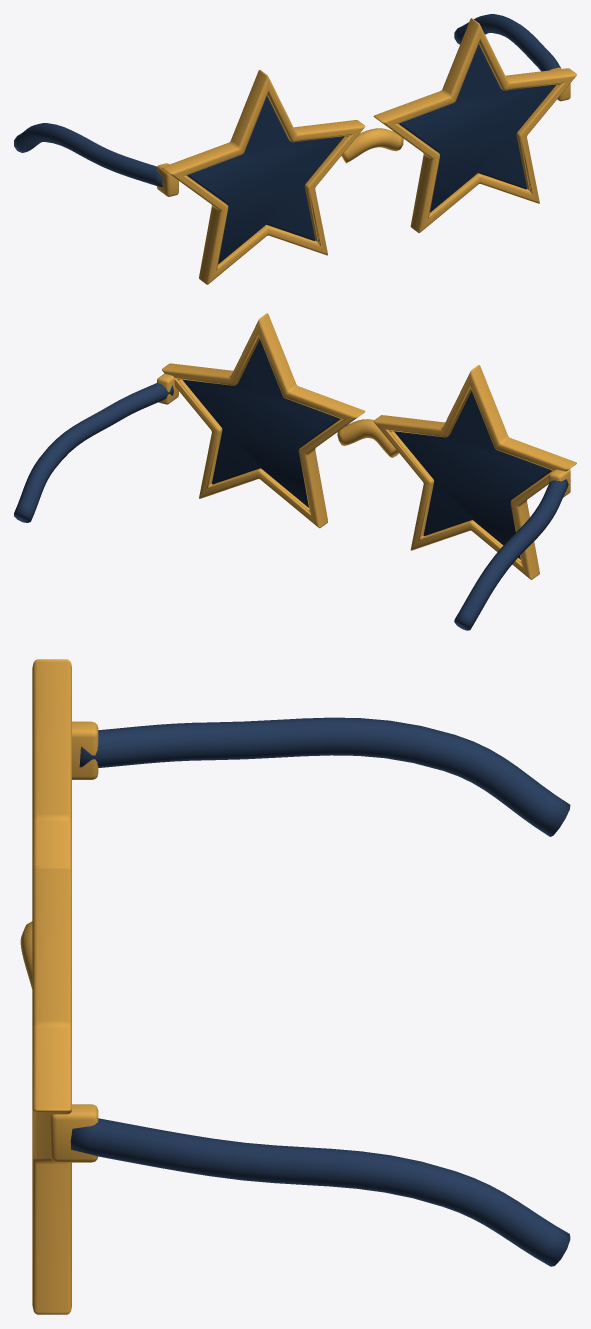
File: StarGlasses.glb
3 renders of one model, top to bottom at view 1: azimuth 30°, elevation 25°; view 2: azimuth 150°, elevation 25°; view 3: azimuth 270°, elevation 25°, orthographic. The views are drawn at different scales.
Visible parts, largest first — view 1: Navy star lens, Navy star lens.001, Star gold frame, Star gold frame.001, Open navy temple, Open navy temple.001, Gold nose bridge, Temple hinge; view 2: Navy star lens.001, Navy star lens, Star gold frame.001, Star gold frame, Open navy temple.001, Open navy temple, Gold nose bridge; view 3: Open navy temple.001, Open navy temple, Star gold frame.001, Star gold frame, Temple hinge.001, Temple hinge.
Part boxes in pixels (bbox=[...]): Navy star lens: bbox=[187, 96, 344, 264]; Navy star lens.001: bbox=[399, 44, 555, 212]; Star gold frame: bbox=[162, 70, 365, 284]; Star gold frame.001: bbox=[373, 18, 576, 232]; Open navy temple: bbox=[14, 123, 162, 187]; Open navy temple.001: bbox=[454, 14, 560, 71]; Gold nose bridge: bbox=[341, 128, 403, 163]; Temple hinge: bbox=[157, 163, 178, 196]; Navy star lens.001: bbox=[182, 339, 339, 507]; Navy star lens: bbox=[394, 391, 551, 559]; Star gold frame.001: bbox=[162, 313, 365, 528]; Star gold frame: bbox=[373, 365, 576, 579]; Open navy temple.001: bbox=[14, 383, 173, 522]; Open navy temple: bbox=[454, 479, 568, 630]; Gold nose bridge: bbox=[337, 419, 398, 457]; Open navy temple.001: bbox=[70, 1118, 570, 1266]; Open navy temple: bbox=[79, 717, 570, 836]; Star gold frame.001: bbox=[32, 866, 71, 1314]; Star gold frame: bbox=[32, 659, 71, 873]; Temple hinge.001: bbox=[50, 1104, 98, 1162]; Temple hinge: bbox=[72, 721, 98, 779].
Bounding box in the file's own units: 0.6741 × 0.2709 × 0.3463.
